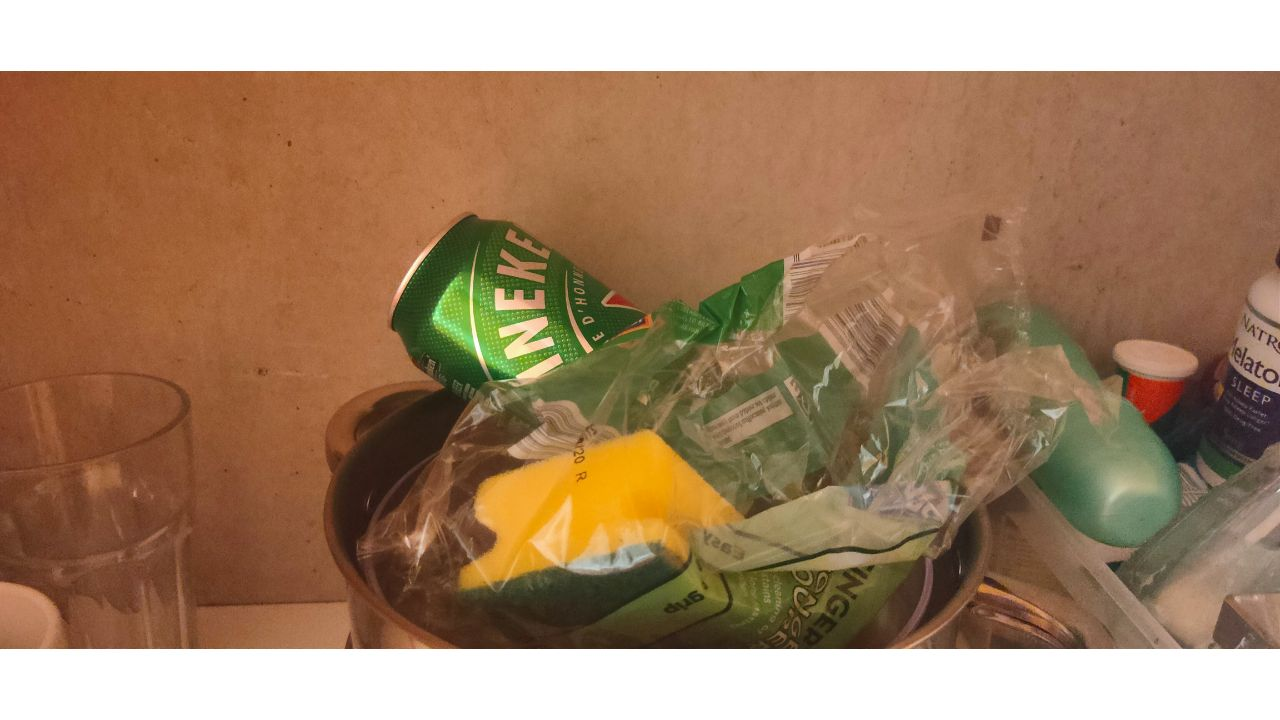Can: (387, 213, 648, 423)
